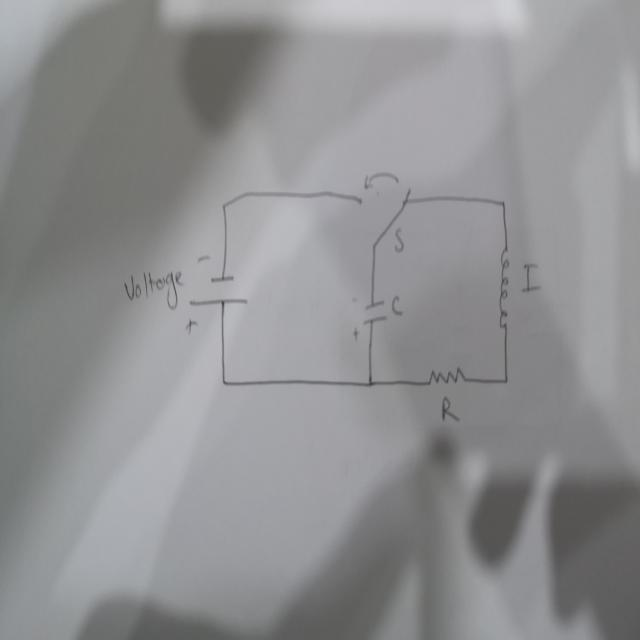capacitor: (348, 288, 388, 343)
inductor: (497, 241, 512, 334)
junction: (365, 372, 376, 393), (218, 198, 229, 215), (501, 371, 511, 388), (220, 373, 228, 390), (499, 198, 506, 210)
resistor: (427, 364, 465, 387)
source: (187, 268, 250, 314)
switch: (357, 168, 412, 250)
text: (122, 266, 185, 312), (440, 394, 461, 426), (522, 263, 540, 291), (389, 292, 404, 317), (393, 227, 405, 251)
